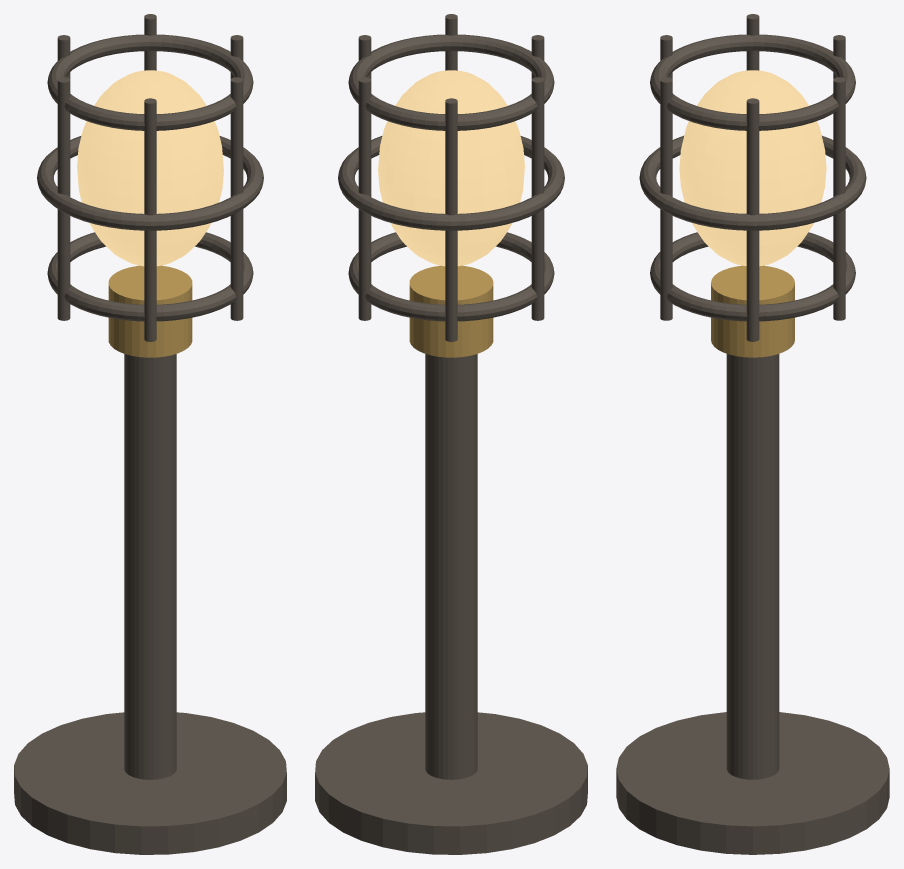
The model's file is lamp8.glb.
The picture shows the model from 3 angles, left to right: view 1: azimuth 30°, elevation 25°; view 2: azimuth 150°, elevation 25°; view 3: azimuth 270°, elevation 25°; orthographic projection.
Parts seen in each view (by area): view 1: L8_Base, L8_Column, L8_Bulb, L8_Ring0.75, L8_Ring0.65, L8_Socket, L8_Ring0.55, L8_Bar3, L8_Bar5, L8_Bar4, L8_Bar1; view 2: L8_Base, L8_Column, L8_Bulb, L8_Ring0.75, L8_Ring0.65, L8_Socket, L8_Ring0.55, L8_Bar1, L8_Bar3, L8_Bar2, L8_Bar5; view 3: L8_Base, L8_Column, L8_Bulb, L8_Ring0.75, L8_Ring0.65, L8_Socket, L8_Ring0.55, L8_Bar0, L8_Bar1, L8_Bar5, L8_Bar3.
Part boxes in pixels (x1,y1,x2,y2): L8_Base: (14, 712, 286, 854); L8_Column: (124, 354, 176, 779); L8_Bulb: (77, 70, 223, 266); L8_Ring0.75: (47, 34, 253, 130); L8_Ring0.65: (37, 136, 263, 230); L8_Socket: (108, 265, 192, 357); L8_Ring0.55: (47, 232, 253, 321); L8_Bar3: (57, 77, 70, 320); L8_Bar5: (230, 77, 243, 320); L8_Bar4: (144, 98, 156, 341); L8_Bar1: (144, 14, 156, 70); L8_Base: (315, 712, 587, 854); L8_Column: (425, 354, 477, 779); L8_Bulb: (378, 70, 524, 266); L8_Ring0.75: (348, 34, 554, 130); L8_Ring0.65: (338, 136, 564, 230); L8_Socket: (409, 265, 493, 357); L8_Ring0.55: (348, 232, 554, 321); L8_Bar1: (358, 77, 371, 320); L8_Bar3: (531, 77, 544, 320); L8_Bar2: (445, 98, 457, 341); L8_Bar5: (445, 14, 457, 70); L8_Base: (616, 712, 889, 854); L8_Column: (726, 354, 779, 779); L8_Bulb: (679, 70, 826, 266); L8_Ring0.75: (650, 34, 855, 130); L8_Ring0.65: (639, 135, 866, 230); L8_Socket: (711, 265, 794, 357); L8_Ring0.55: (650, 232, 855, 321); L8_Bar0: (746, 98, 759, 341); L8_Bar1: (833, 77, 845, 320); L8_Bar5: (660, 77, 672, 320); L8_Bar3: (746, 14, 759, 70).
Bounding box in the file's own units: 0.26 × 0.775 × 0.26.
